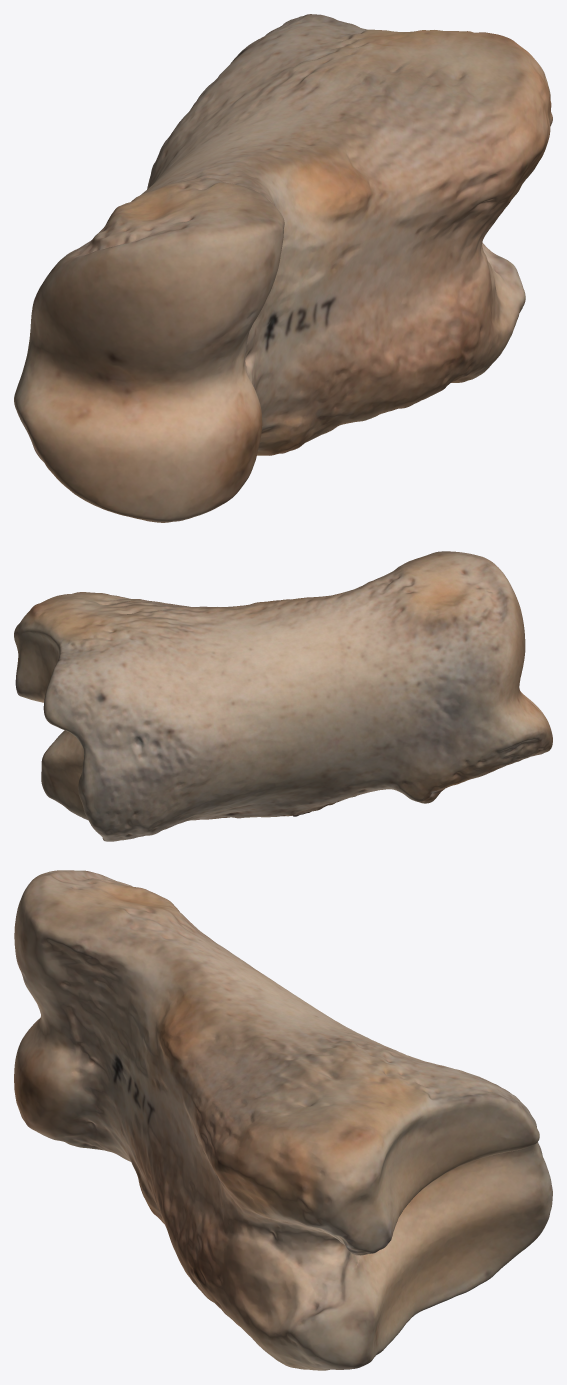
3 views of the same model, one above another, from view 1: azimuth 30°, elevation 25°; view 2: azimuth 150°, elevation 25°; view 3: azimuth 270°, elevation 25° (orthographic). The views are drawn at different scales.
Parts seen in each view (by area): view 1: Node; view 2: Node; view 3: Node.
Boxes of the visible parts, left/top/right/bottom form: Node: left=14, top=14, right=552, bottom=522; Node: left=14, top=551, right=552, bottom=841; Node: left=14, top=870, right=552, bottom=1370.
Bounding box in the file's own units: 65.27 × 34.18 × 53.31.
1 material, 1 textured.
